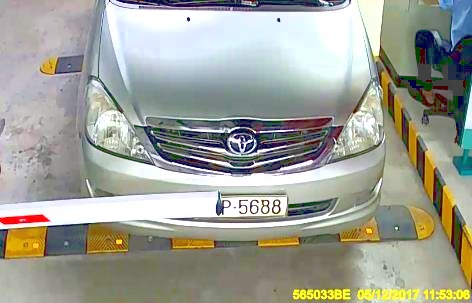plate: (198, 188, 289, 218)
